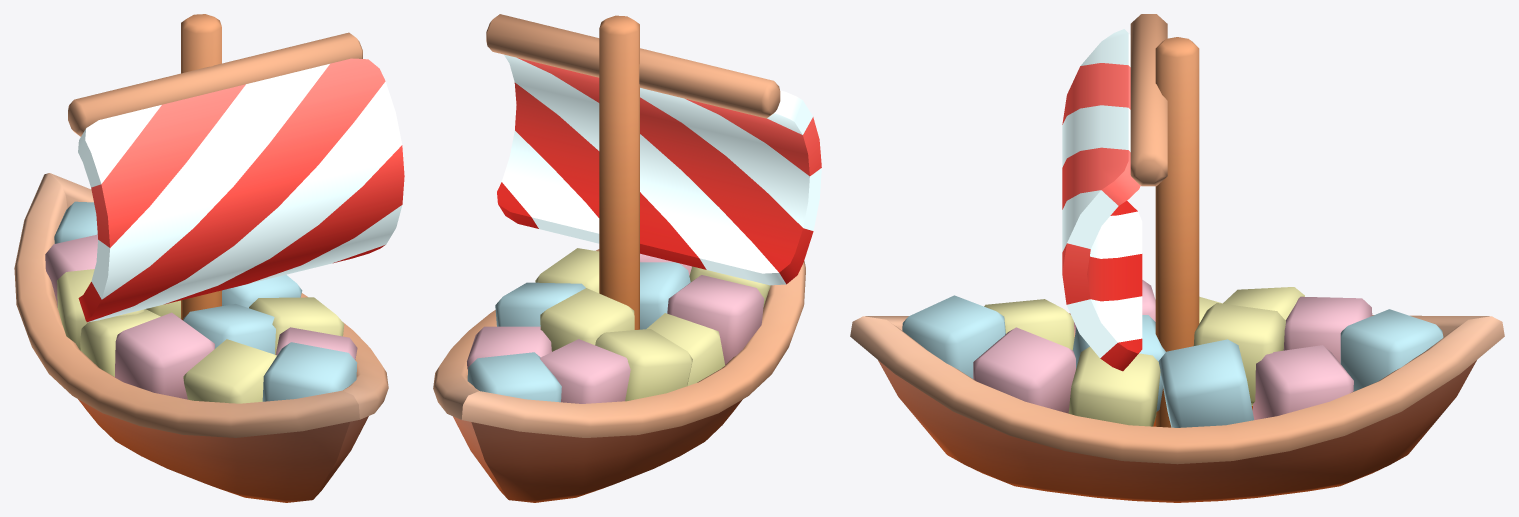
The model's file is SweetBoat_04.glb.
The picture shows the model from 3 angles, left to right: view 1: azimuth 30°, elevation 25°; view 2: azimuth 150°, elevation 25°; view 3: azimuth 270°, elevation 25°; orthographic projection. The views are drawn at different scales.
Visible parts, largest first — view 1: SweetBoat_04; view 2: SweetBoat_04; view 3: SweetBoat_04.
Boxes of the visible parts, x1,y1,x2,y2 form: SweetBoat_04: (14,14,404,502); SweetBoat_04: (433,14,821,502); SweetBoat_04: (850,14,1504,502).
Bounding box in the file's own units: 3.89 × 5.19 × 7.25.
Materials: 2 (2 with a texture image).
